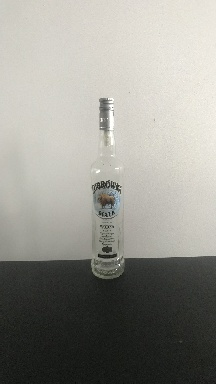butelka: (89, 94, 125, 281)
